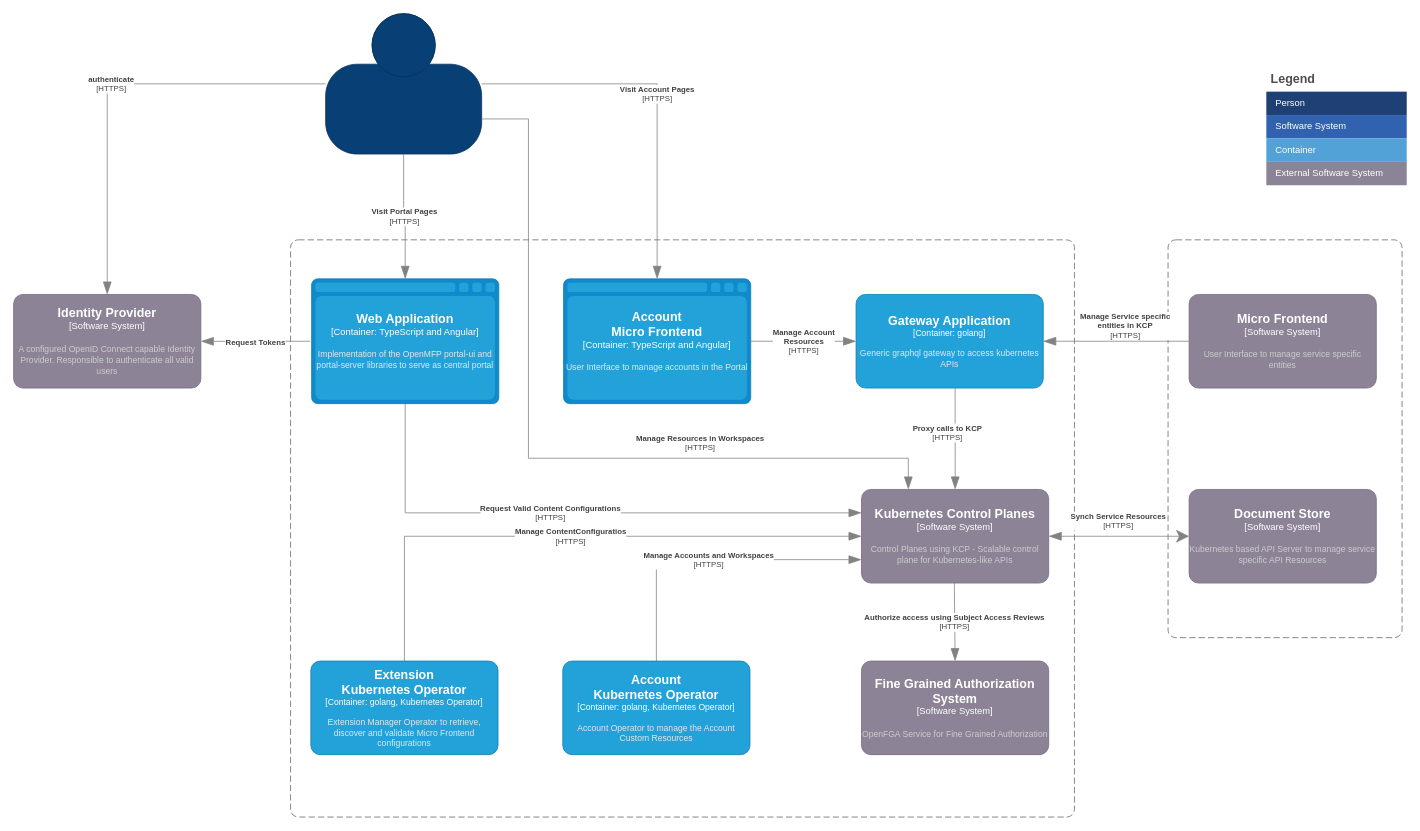
This 1420x831 diagram has some shape labels left out. The shapes that lost their labels are listed below. From the top down, each one's box as (x1, y1, x2, y2) in pixels, then its label:
(325, 13, 482, 154): User [Person] A User or Operator accessing the Portal
(1167, 239, 1402, 638): Integrated Service [Software System]
(290, 239, 1074, 817): OpenMFP Implementation [Software System]
